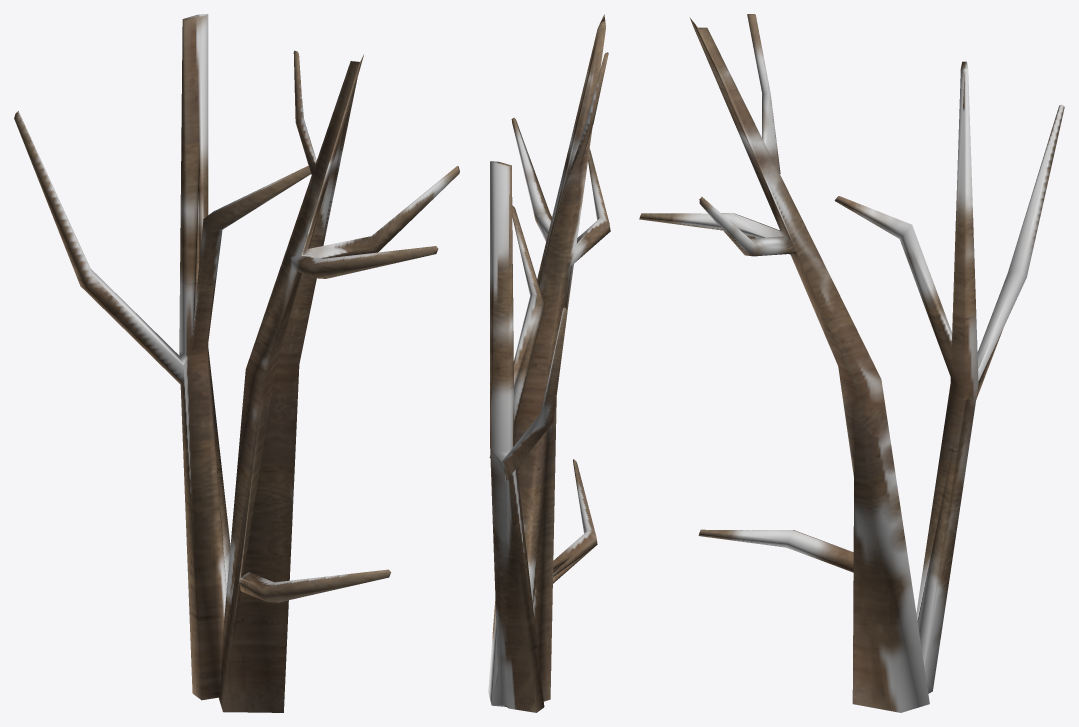
Rendered from tree1.obj.
The picture shows the model from 3 angles, left to right: view 1: azimuth 30°, elevation 25°; view 2: azimuth 150°, elevation 25°; view 3: azimuth 270°, elevation 25°; orthographic projection. The views are drawn at different scales.
Visible parts, largest first — view 1: Cylinder008; view 2: Cylinder008; view 3: Cylinder008.
Boxes of the visible parts, x1,y1,x2,y2 form: Cylinder008: [14, 14, 459, 712]; Cylinder008: [488, 14, 610, 712]; Cylinder008: [639, 14, 1064, 712].
Size of the model in its own units: 25.25 by 68.5 by 38.59.
Materials: 1 (1 with a texture image).
